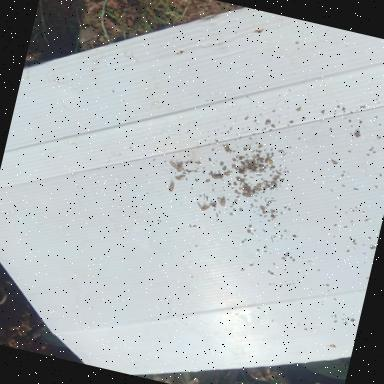pbw: (168, 160, 184, 173), (197, 201, 212, 214), (167, 182, 176, 194), (218, 198, 228, 208)
